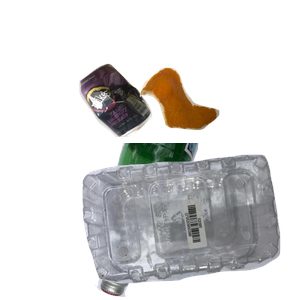glass: (93, 143, 284, 300)
metal: (77, 61, 222, 191)
plastic: (80, 152, 300, 300)
trash: (137, 65, 300, 188)
